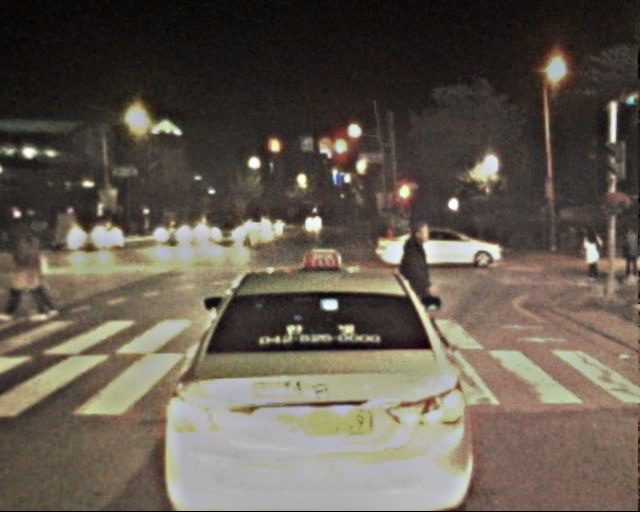person: (394, 220, 451, 360), (2, 219, 57, 320), (578, 229, 603, 290), (619, 229, 640, 284)
